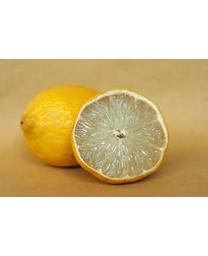lemon: (75, 88, 169, 182), (18, 85, 102, 167)
